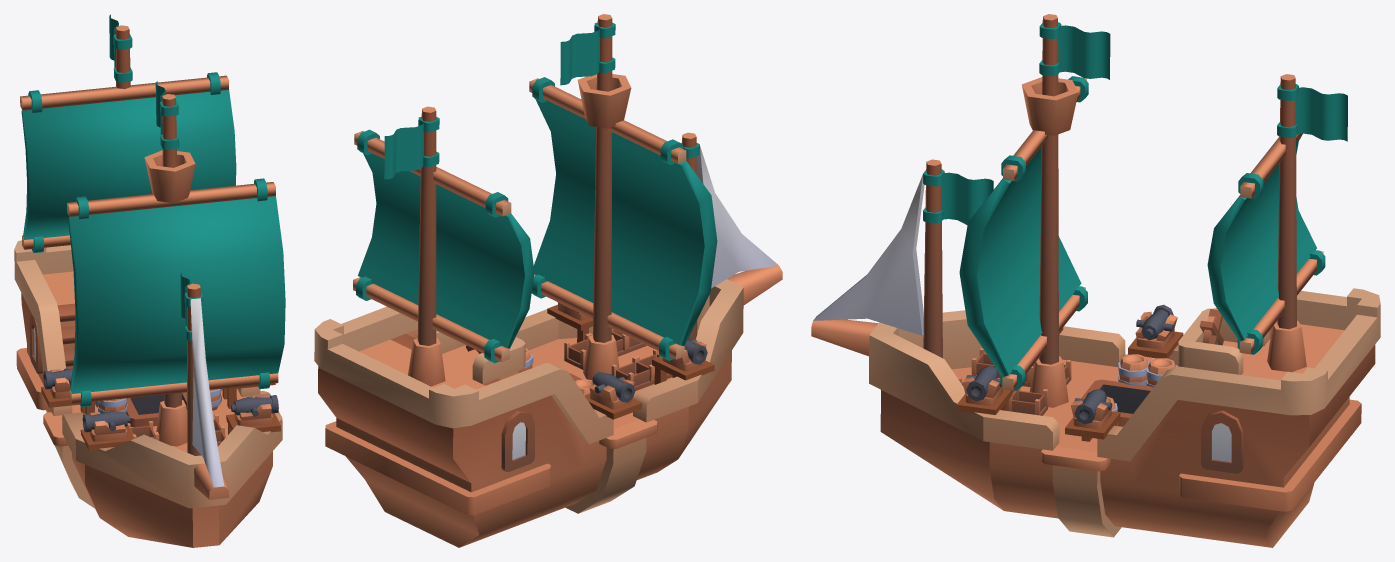
File: ship-trader.glb
The picture shows the model from 3 angles, left to right: view 1: azimuth 30°, elevation 25°; view 2: azimuth 150°, elevation 25°; view 3: azimuth 270°, elevation 25°; orthographic projection. The views are drawn at different scales.
Parts seen in each view (by area): view 1: sail-a.012, Hull + rigging.006, sail-b.006, Fitted cannon.026, Fitted cannon.028, flag-b.009, flag-c.009, Fitted cannon.027, flag-a.009, Gun platform • timber saddle.026, Gun platform • timber saddle.028, barrel.018 (+1 smaller); view 2: Hull + rigging.006, sail-a.012, sail-b.006, flag-b.009, flag-c.009, Fitted cannon.027, crate.030, Fitted cannon.026, Gun platform • timber saddle.026, Gun platform • timber saddle.027; view 3: Hull + rigging.006, sail-a.012, sail-b.006, flag-b.009, flag-c.009, flag-a.009, Fitted cannon.027, Fitted cannon.029, Fitted cannon.028, barrel.018, crate.031.
Part boxes in pixels (x1=…): sail-a.012: x1=67, y1=178, x2=285, y2=407; Hull + rigging.006: x1=14, y1=25, x2=282, y2=547; sail-b.006: x1=20, y1=72, x2=236, y2=252; Fitted cannon.026: x1=82, y1=411, x2=130, y2=441; Fitted cannon.028: x1=231, y1=395, x2=278, y2=426; flag-b.009: x1=155, y1=81, x2=179, y2=149; flag-c.009: x1=109, y1=14, x2=132, y2=82; Fitted cannon.027: x1=43, y1=368, x2=72, y2=398; flag-a.009: x1=180, y1=272, x2=203, y2=340; Gun platform • timber saddle.026: x1=80, y1=425, x2=134, y2=450; Gun platform • timber saddle.028: x1=226, y1=413, x2=281, y2=432; barrel.018: x1=97, y1=398, x2=127, y2=413; Hull + rigging.006: x1=314, y1=14, x2=782, y2=547; sail-a.012: x1=529, y1=77, x2=717, y2=360; sail-b.006: x1=353, y1=129, x2=534, y2=363; flag-b.009: x1=560, y1=22, x2=615, y2=85; flag-c.009: x1=384, y1=116, x2=439, y2=179; Fitted cannon.027: x1=590, y1=372, x2=635, y2=409; crate.030: x1=611, y1=356, x2=654, y2=390; Fitted cannon.026: x1=662, y1=339, x2=707, y2=371; Gun platform • timber saddle.026: x1=652, y1=356, x2=714, y2=380; Gun platform • timber saddle.027: x1=585, y1=393, x2=642, y2=419; Hull + rigging.006: x1=811, y1=14, x2=1380, y2=547; sail-a.012: x1=959, y1=76, x2=1088, y2=390; sail-b.006: x1=1207, y1=133, x2=1325, y2=354; flag-b.009: x1=1039, y1=22, x2=1110, y2=79; flag-c.009: x1=1277, y1=84, x2=1347, y2=141; flag-a.009: x1=923, y1=169, x2=993, y2=225; Fitted cannon.027: x1=1136, y1=304, x2=1174, y2=349; Fitted cannon.029: x1=1073, y1=389, x2=1112, y2=429; Fitted cannon.028: x1=965, y1=365, x2=1003, y2=405; barrel.018: x1=1118, y1=354, x2=1149, y2=385; crate.031: x1=1011, y1=389, x2=1048, y2=415.
Size of the model in its own units: 6.23 by 9.98 by 10.68.
Materials: 6 (4 with a texture image).
